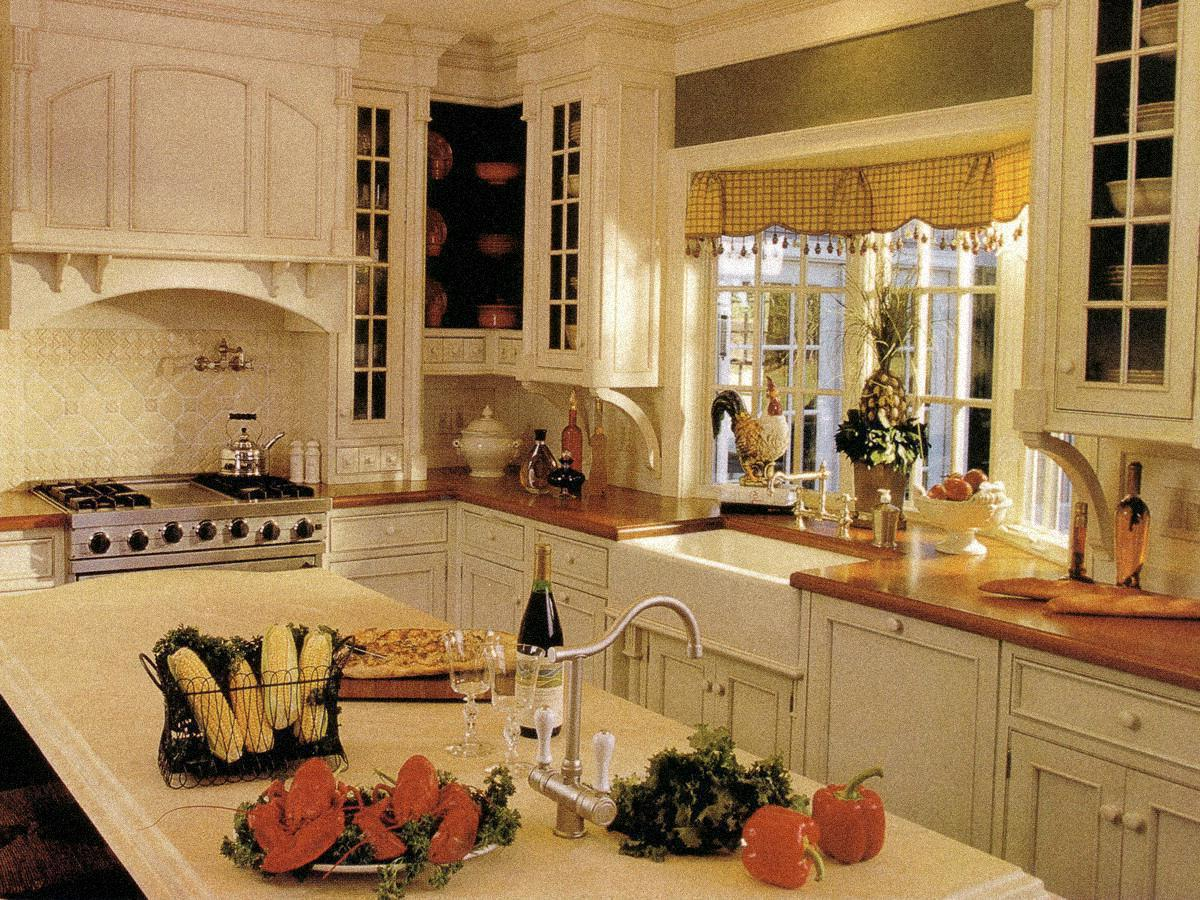Lavaplatos: (622, 468, 907, 594)
